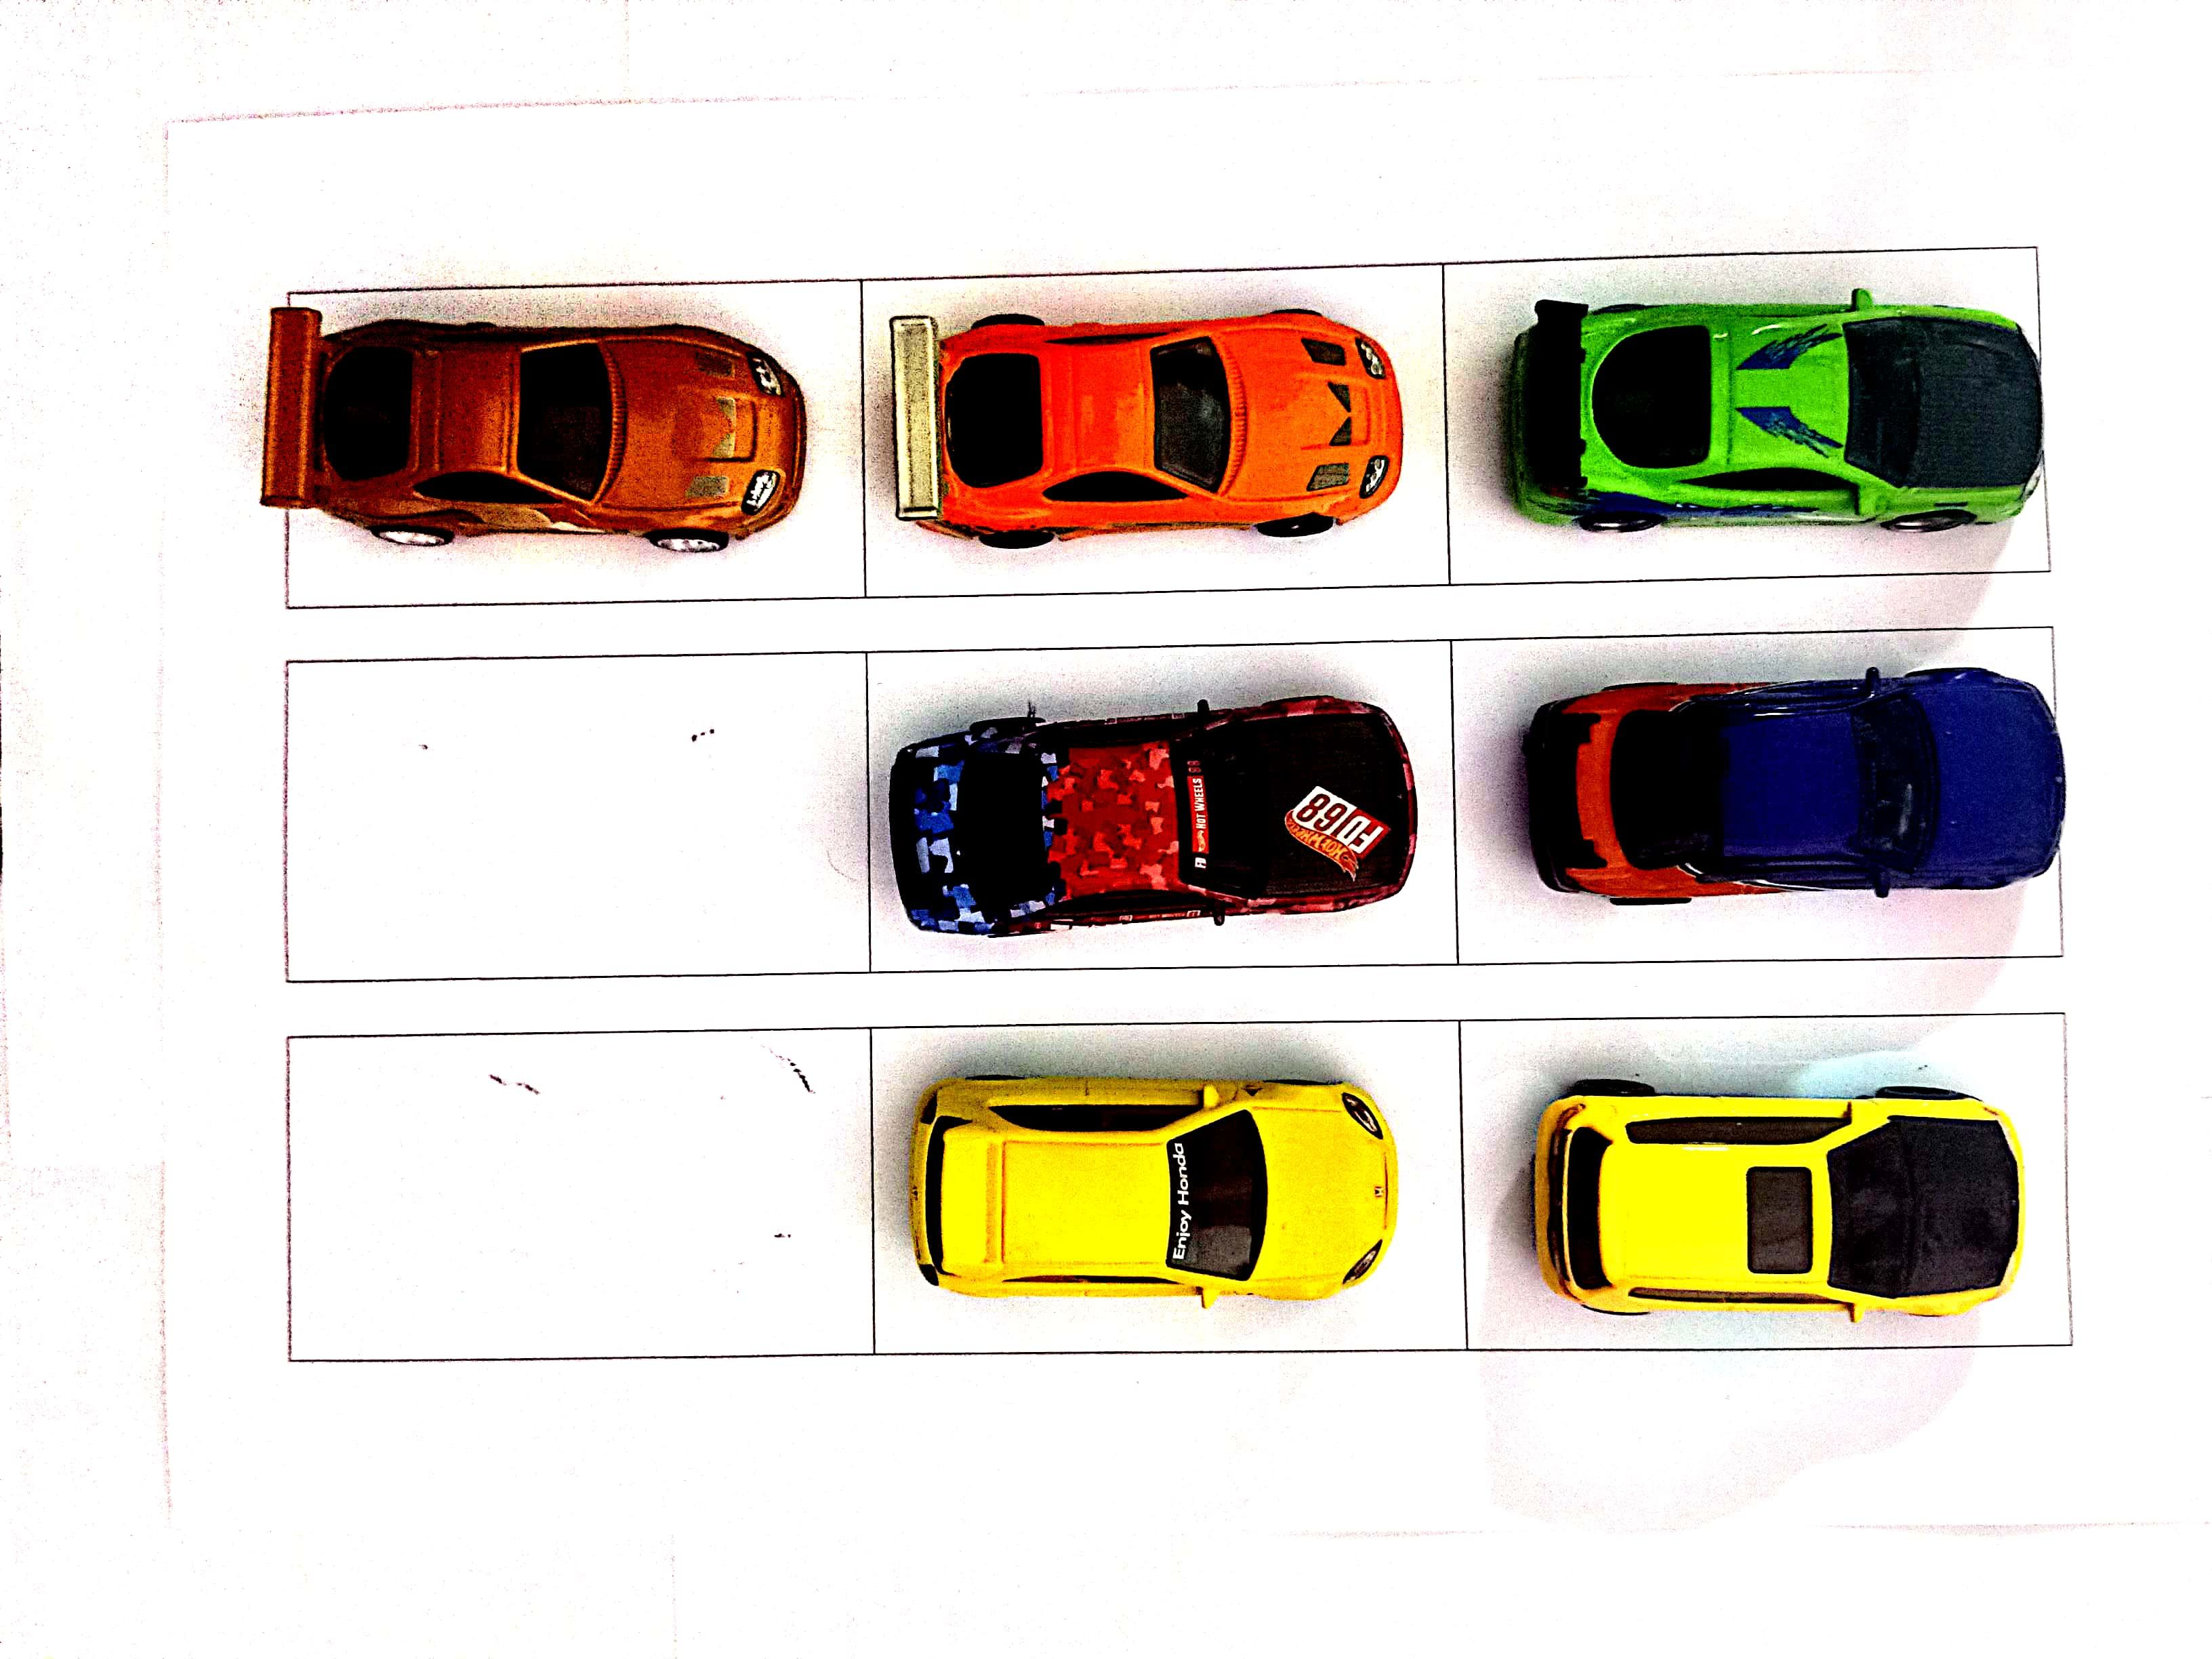Busy: (1467, 1011, 2055, 1351), (1454, 636, 2054, 967), (871, 1032, 1458, 1358), (1449, 253, 2033, 580), (871, 641, 1454, 967), (860, 267, 1442, 586), (286, 288, 860, 603)
Free: (286, 1037, 871, 1359), (282, 662, 869, 983)
